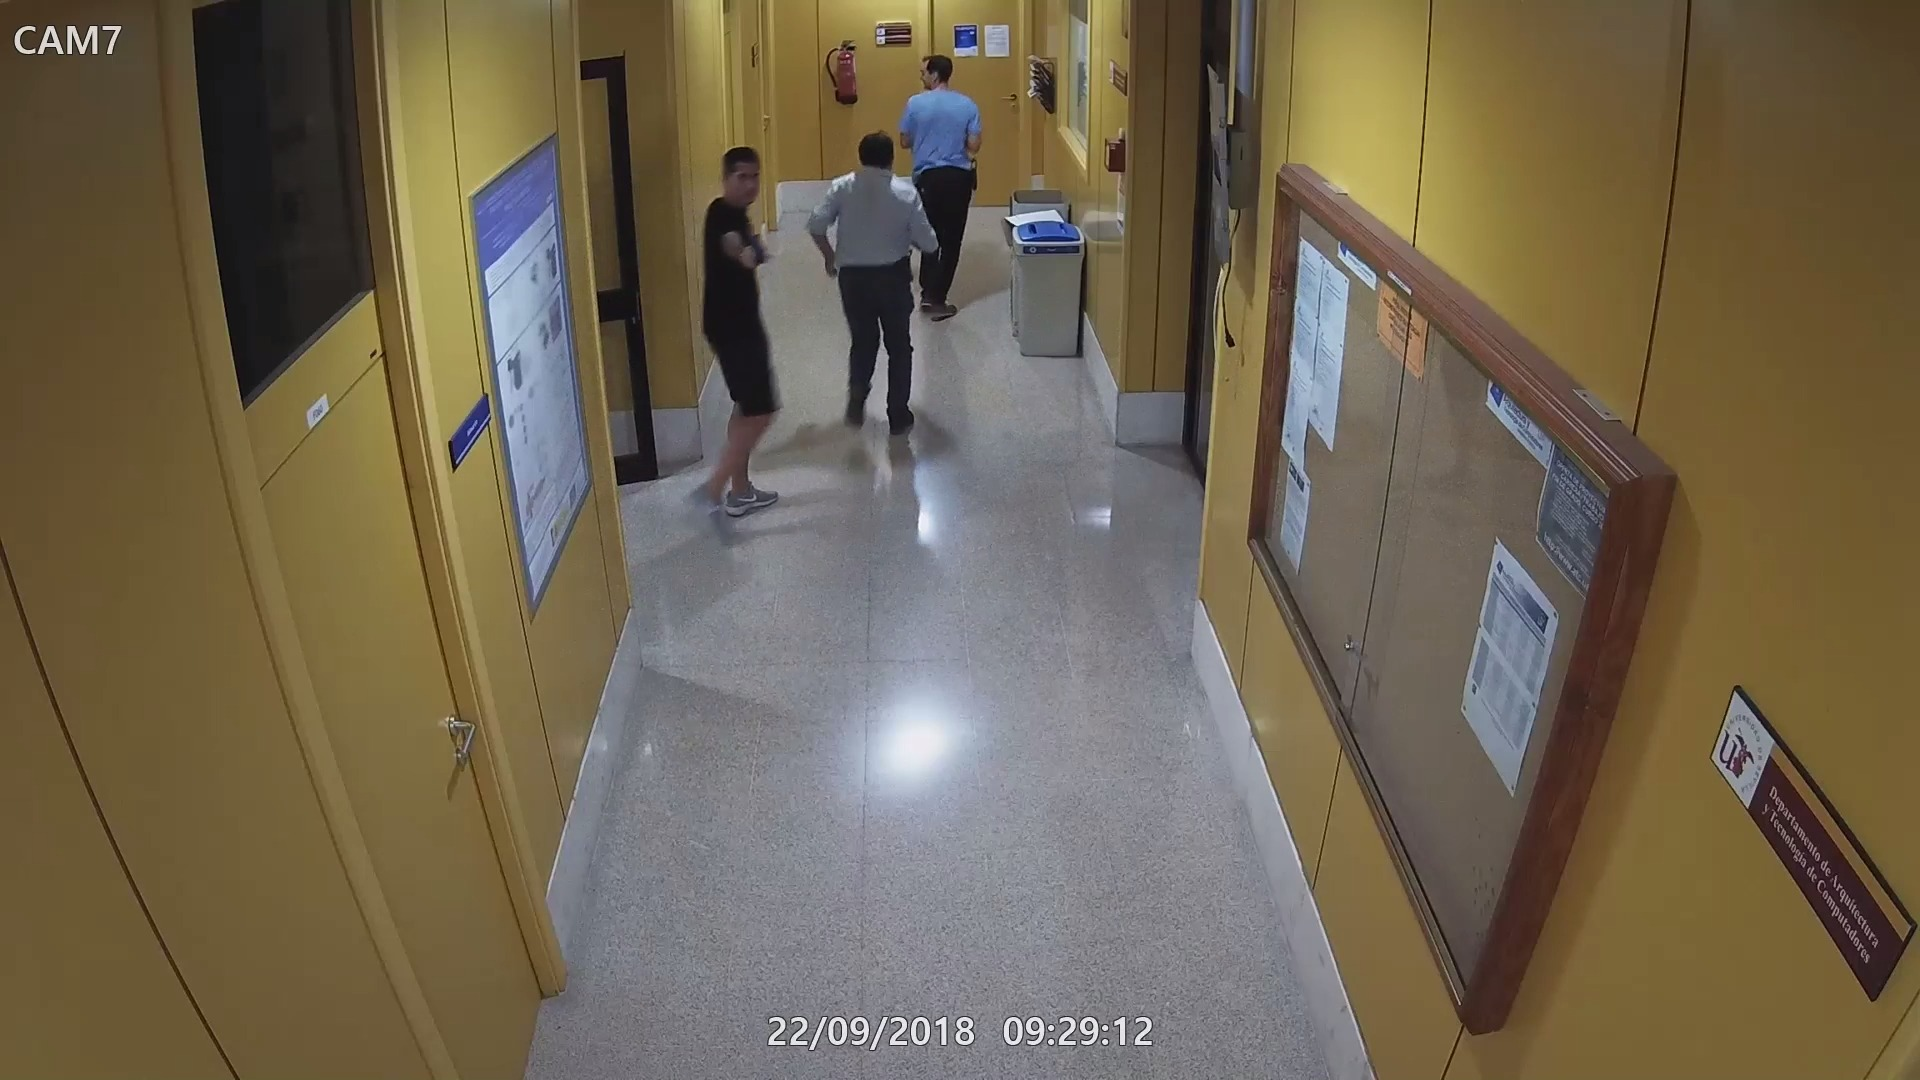pistol: (746, 231, 771, 270)
